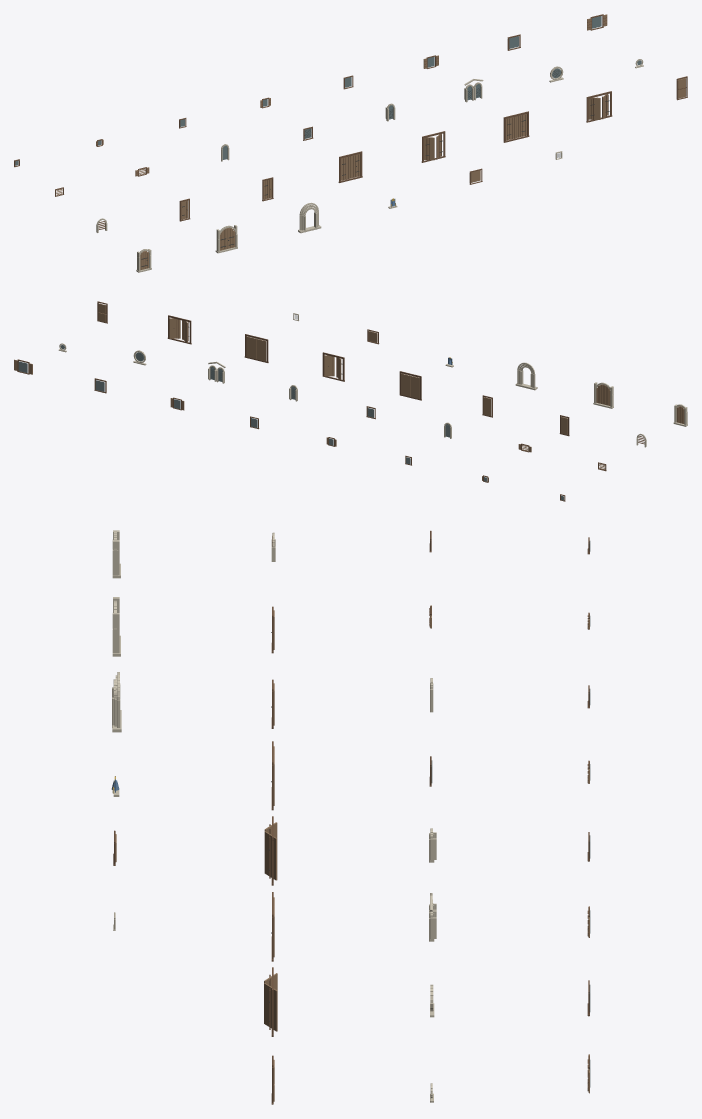
Rendered from openings.glb.
3 renders of one model, top to bottom at view 1: azimuth 30°, elevation 25°; view 2: azimuth 150°, elevation 25°; view 3: azimuth 270°, elevation 25°, orthographic. The views are drawn at different scales.
Parts seen in each view (by area): view 1: GK_opening_gate_cart_double, GK_opening_door_barn_double, GK_opening_gate_cart_open-double, GK_opening_door_barn_open-double, GK_opening_church_arch_door_double, GK_opening_church_portal_surround; view 2: GK_opening_gate_cart_double, GK_opening_door_barn_double, GK_opening_gate_cart_open-double, GK_opening_door_barn_open-double, GK_opening_church_arch_door_double, GK_opening_church_portal_surround; view 3: no part large enough to name.
Boxes of the visible parts, x1,y1,x2,y2 form: GK_opening_gate_cart_double: (503,111,529,142); GK_opening_door_barn_double: (338,151,362,182); GK_opening_gate_cart_open-double: (586,91,612,122); GK_opening_door_barn_open-double: (421,131,445,162); GK_opening_church_arch_door_double: (215,225,237,253); GK_opening_church_portal_surround: (298,202,321,233); GK_opening_gate_cart_double: (244,334,268,362); GK_opening_door_barn_double: (399,371,421,400); GK_opening_gate_cart_open-double: (167,315,191,344); GK_opening_door_barn_open-double: (322,352,344,381); GK_opening_church_arch_door_double: (593,382,613,408); GK_opening_church_portal_surround: (515,362,537,390).
Bounding box in the file's own units: 64.82 × 3.05 × 24.21.
